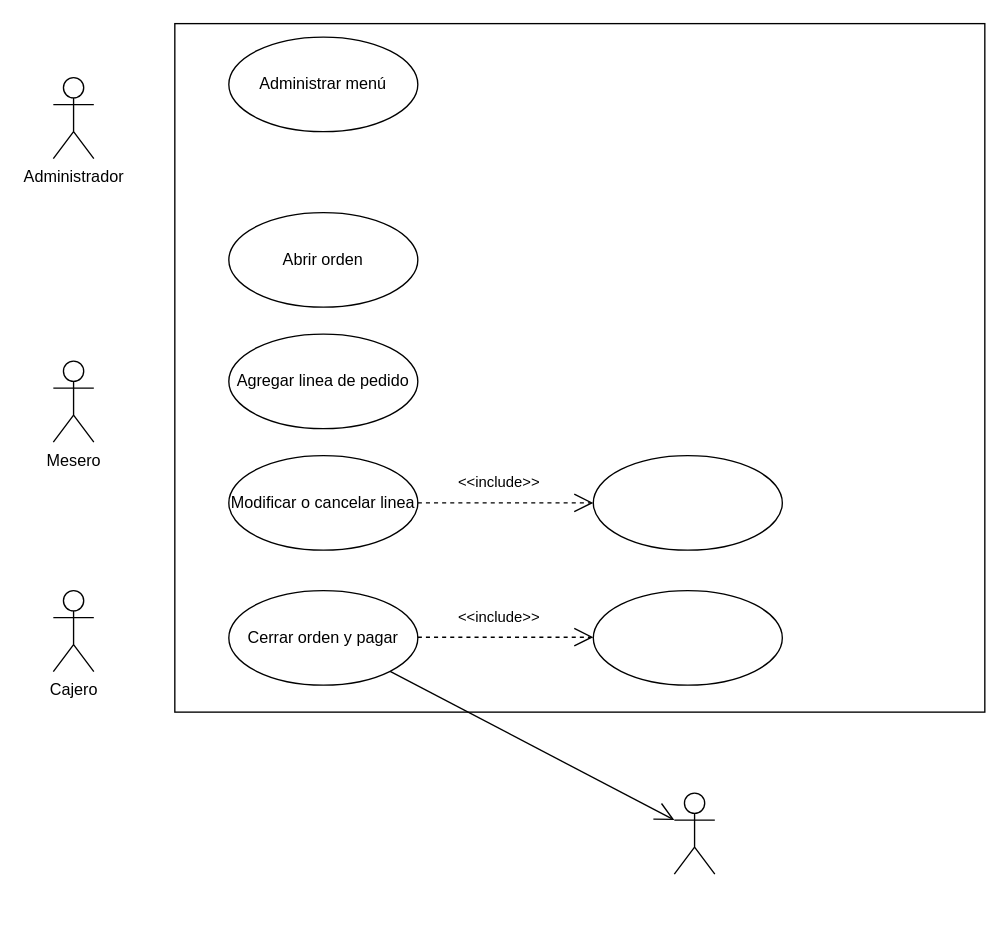
Image size: 1008x926. Some labels were removed from this diagram. Each missing label, with the box of its shape:
Calcular totales: (592, 589, 782, 685)
Pasarela de pagos: (673, 792, 715, 874)
Validar estado de cocina: (592, 454, 782, 550)
